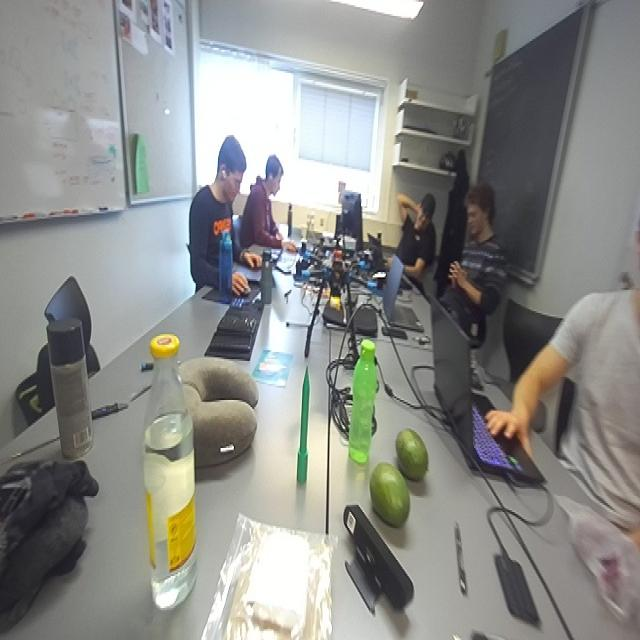probe: (297, 366, 309, 484)
